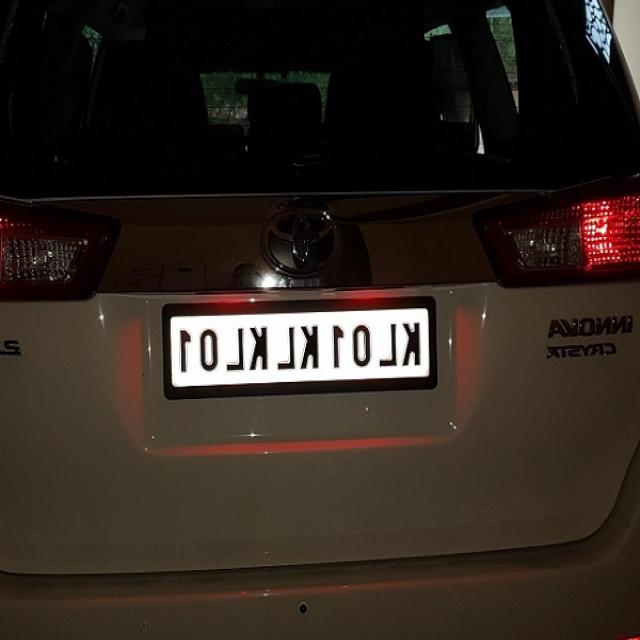number-plate: (160, 274, 448, 396)
